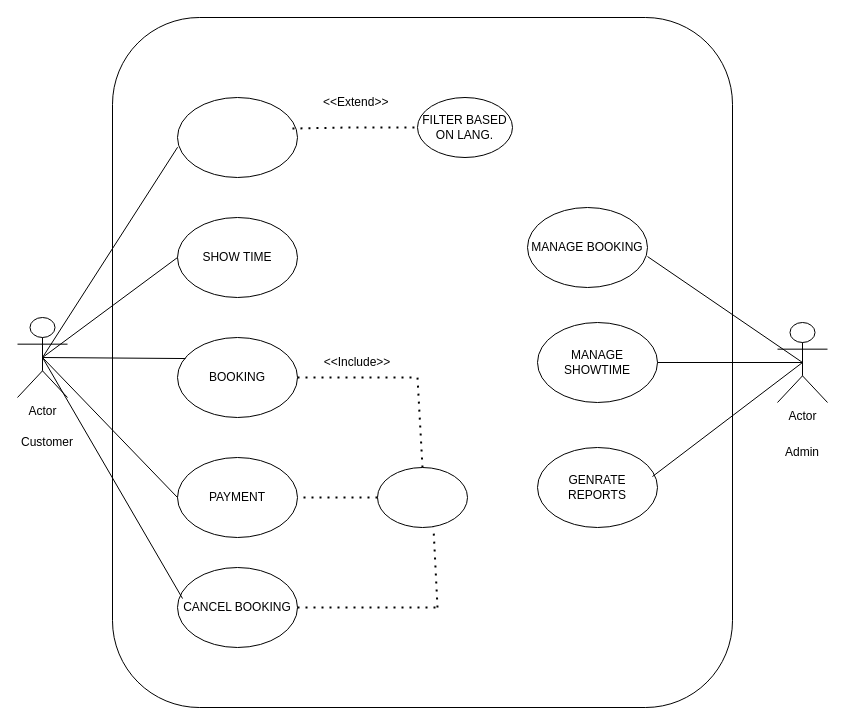
Some shapes in this 850 by 725 pixel diagram are drawn without their labels. The shapes that lost their labels are listed below. From the top down, each one's box as (x1, y1, x2, y2) in pixels, then its label:
(176, 96, 298, 178): SEARCH
(376, 466, 468, 528): LOGIN
